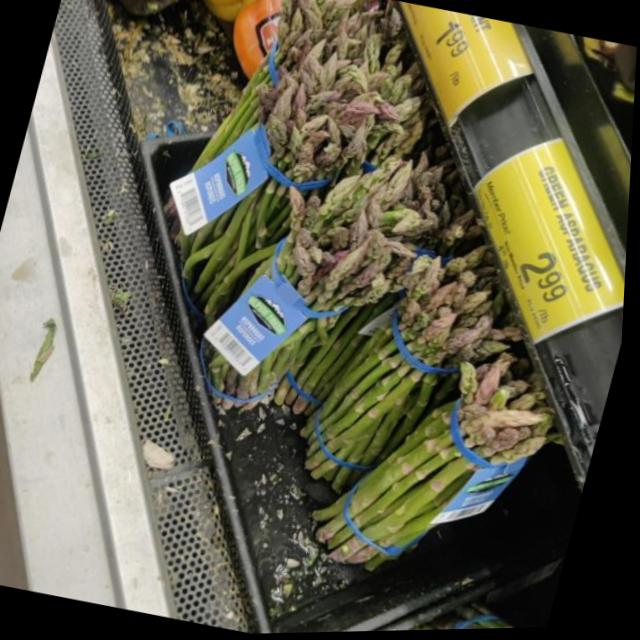Asparagus: (198, 89, 494, 456), (123, 0, 445, 331), (277, 182, 533, 536), (319, 320, 574, 622)
